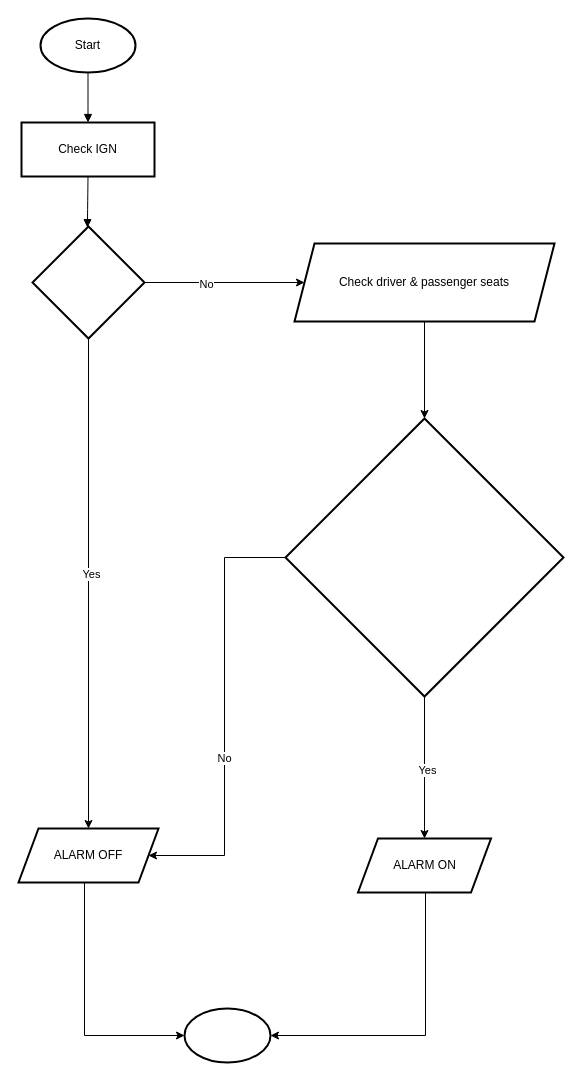
Image size: 581x1080. Some labels were removed from this diagram. Each missing label, with the box of its shape:
Any seat occupied AND belt unfastened?: (284, 417, 564, 697)
End: (183, 1007, 271, 1063)
IGN = 0?: (31, 225, 145, 339)
